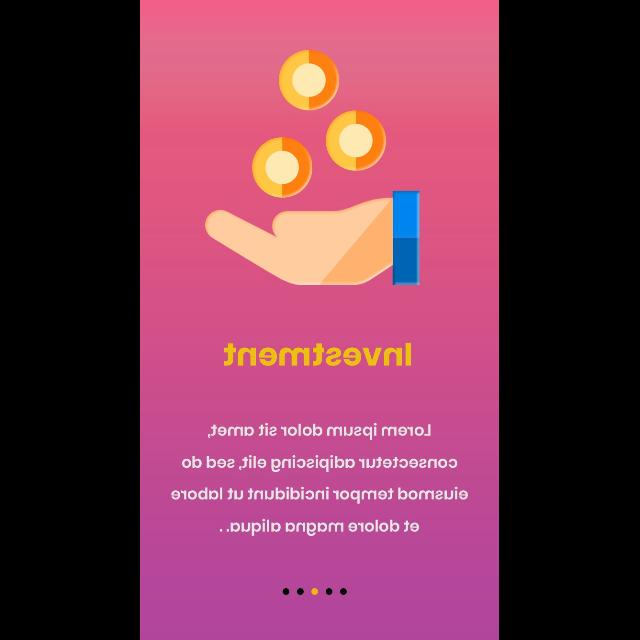image: (204, 50, 420, 286)
pageindicator: (282, 588, 348, 596)
text: (171, 423, 469, 537), (224, 343, 412, 367)
